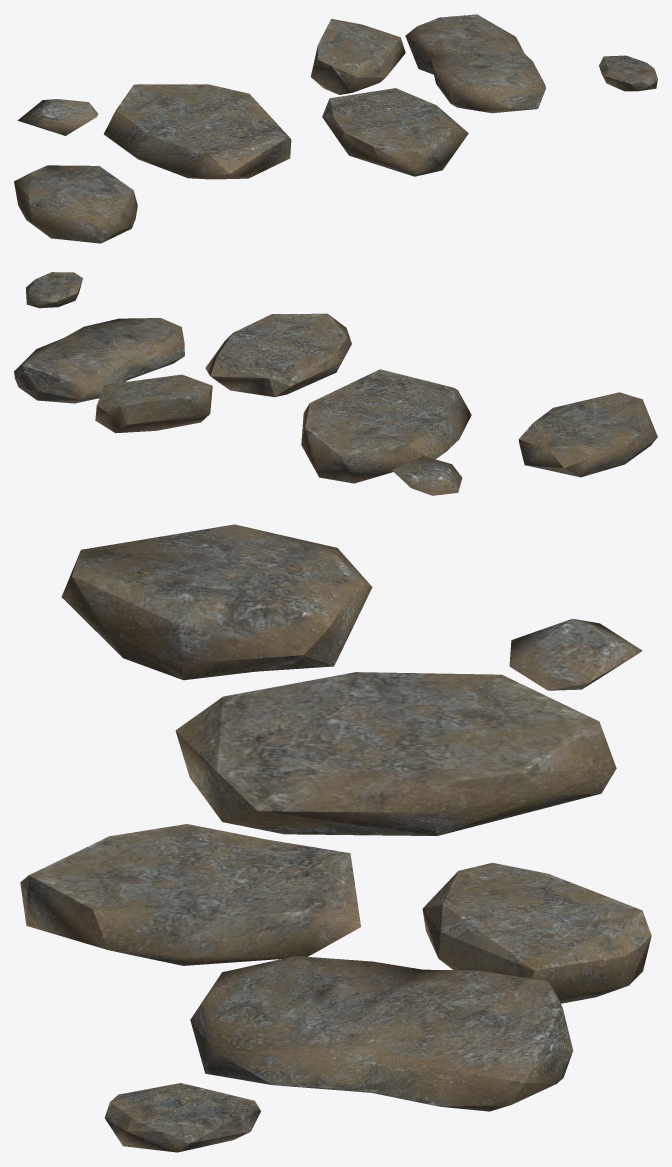
Rendered from bg_anh_stone_stepstone01_sm_phs.FBX.
3 renders of one model, top to bottom at view 1: azimuth 30°, elevation 25°; view 2: azimuth 150°, elevation 25°; view 3: azimuth 270°, elevation 25°, orthographic. The views are drawn at different scales.
Parts seen in each view (by area): view 1: bg_anh_stone_stepstone01_sm_phs; view 2: bg_anh_stone_stepstone01_sm_phs; view 3: bg_anh_stone_stepstone01_sm_phs.
Boxes of the visible parts, x1,y1,x2,y2 form: bg_anh_stone_stepstone01_sm_phs: (14,14,657,243); bg_anh_stone_stepstone01_sm_phs: (14,272,657,495); bg_anh_stone_stepstone01_sm_phs: (20,524,651,1152).
Size of the model in its own units: 549 by 32.7 by 241.
